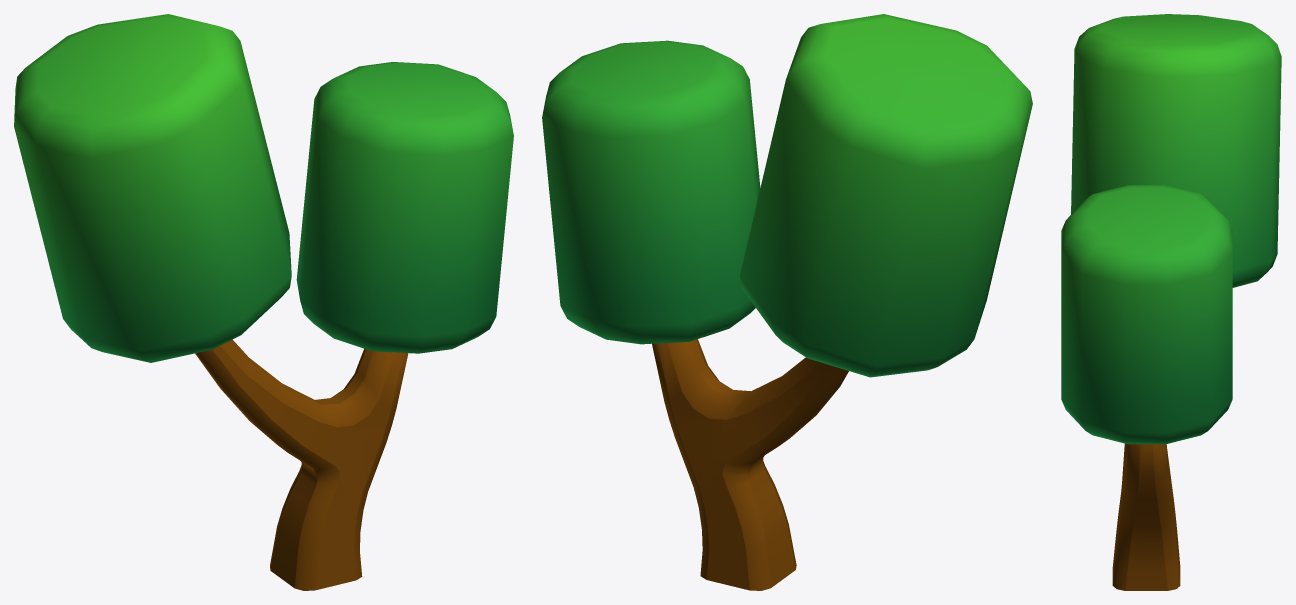
The model's file is Tree_1_3.fbx.
3 renders of one model, left to right at view 1: azimuth 30°, elevation 25°; view 2: azimuth 150°, elevation 25°; view 3: azimuth 270°, elevation 25°, orthographic. The views are drawn at different scales.
Visible parts, largest first — view 1: Tree_1_3; view 2: Tree_1_3; view 3: Tree_1_3.
Boxes of the visible parts, x1,y1,x2,y2 form: Tree_1_3: (14,14,513,590); Tree_1_3: (542,14,1032,590); Tree_1_3: (1061,14,1281,590).
Size of the model in its own units: 297 by 349 by 143.
